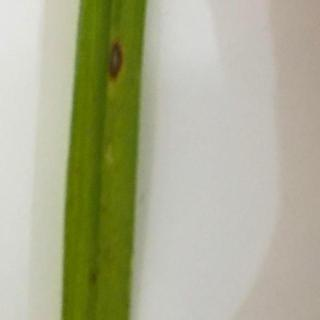Blast: (99, 22, 130, 104)
